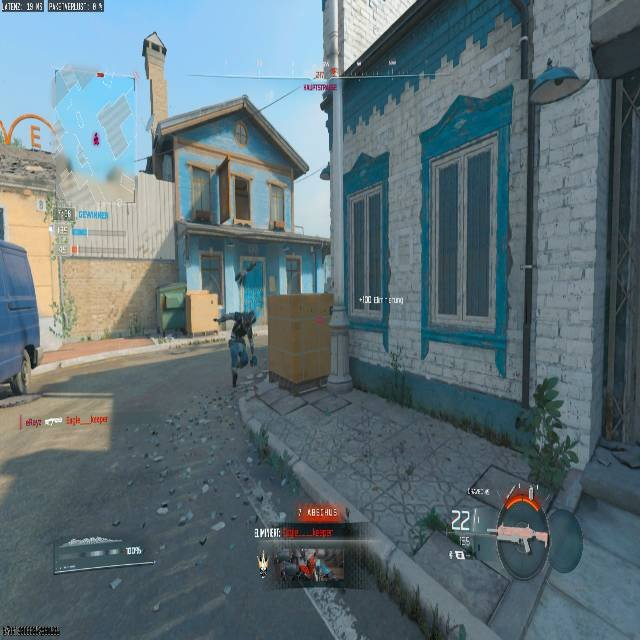head: (246, 309, 256, 322)
player: (213, 307, 257, 385), (227, 315, 254, 371)
